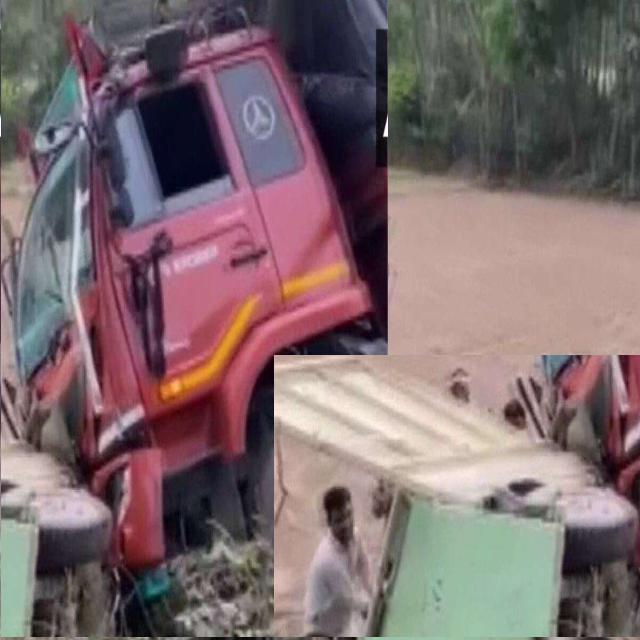accident: (274, 355, 640, 637)
truck: (0, 0, 388, 637)
